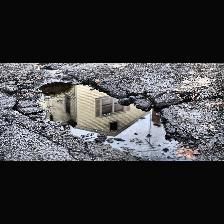pothole: (10, 76, 198, 160)
